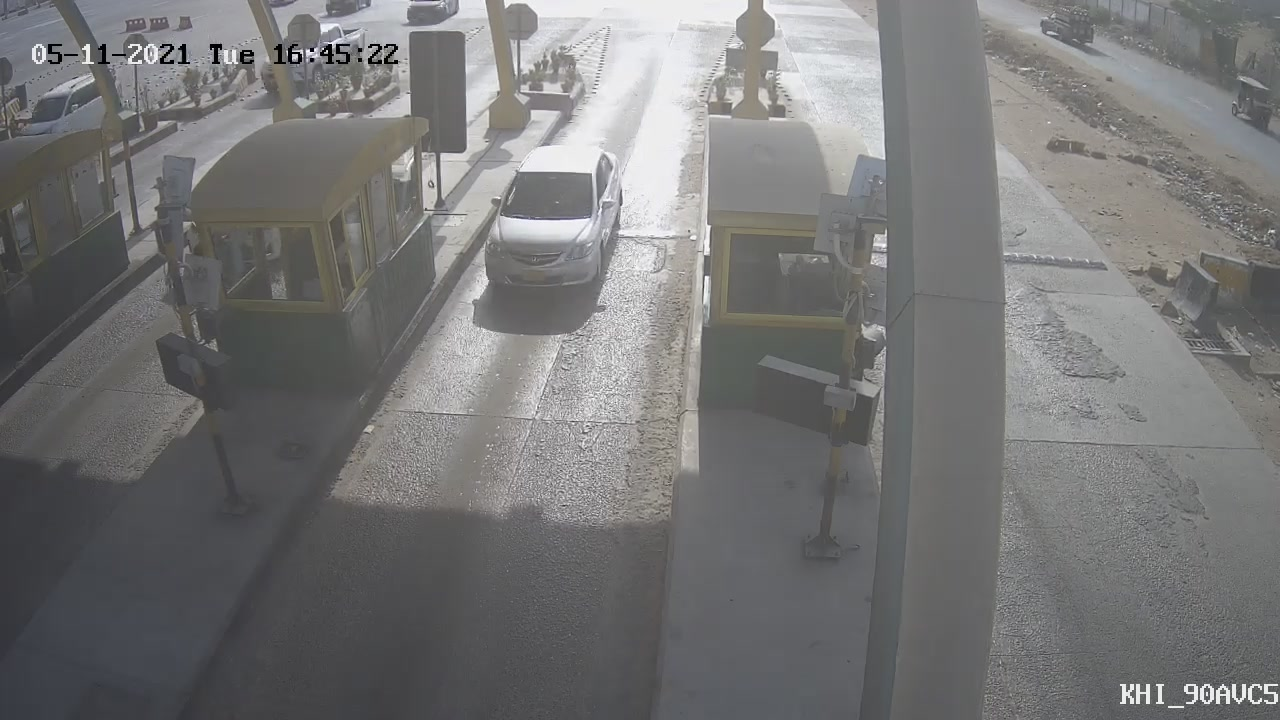F1: (465, 133, 639, 307)
